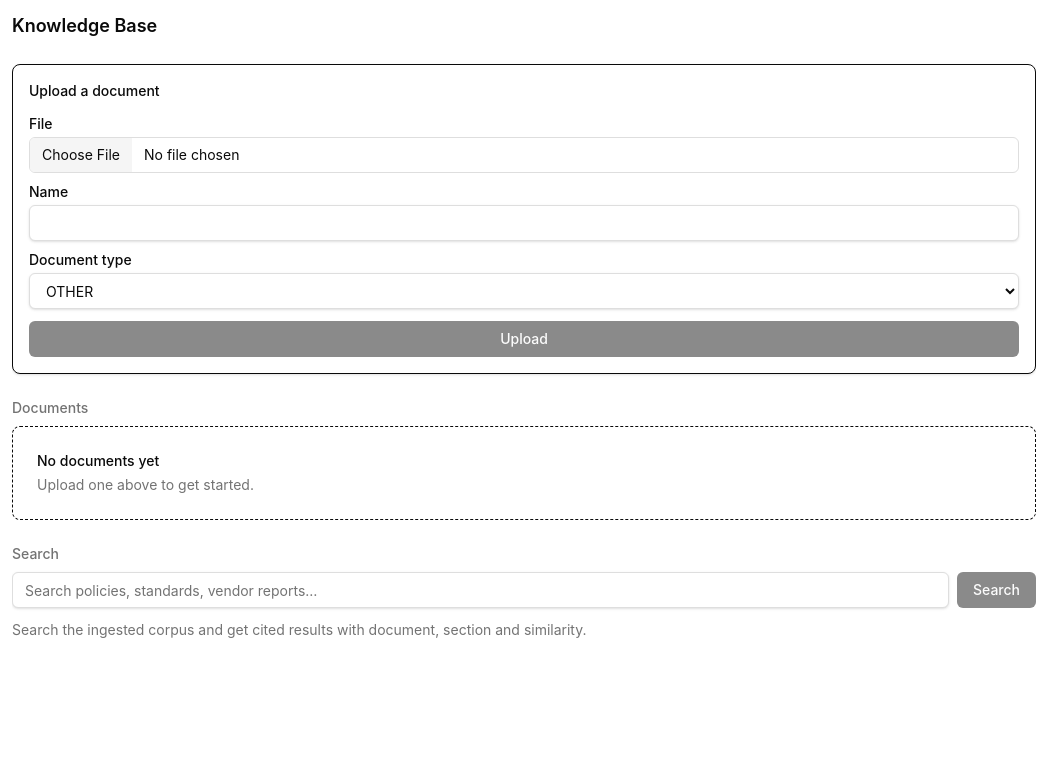
Test: KnowledgeBasePage › renders an error state when the search request fails
This screenshot has width=1048, height=780.
Type "anything" into the search field named "search query" at (480, 590), box [12,572,949,608]
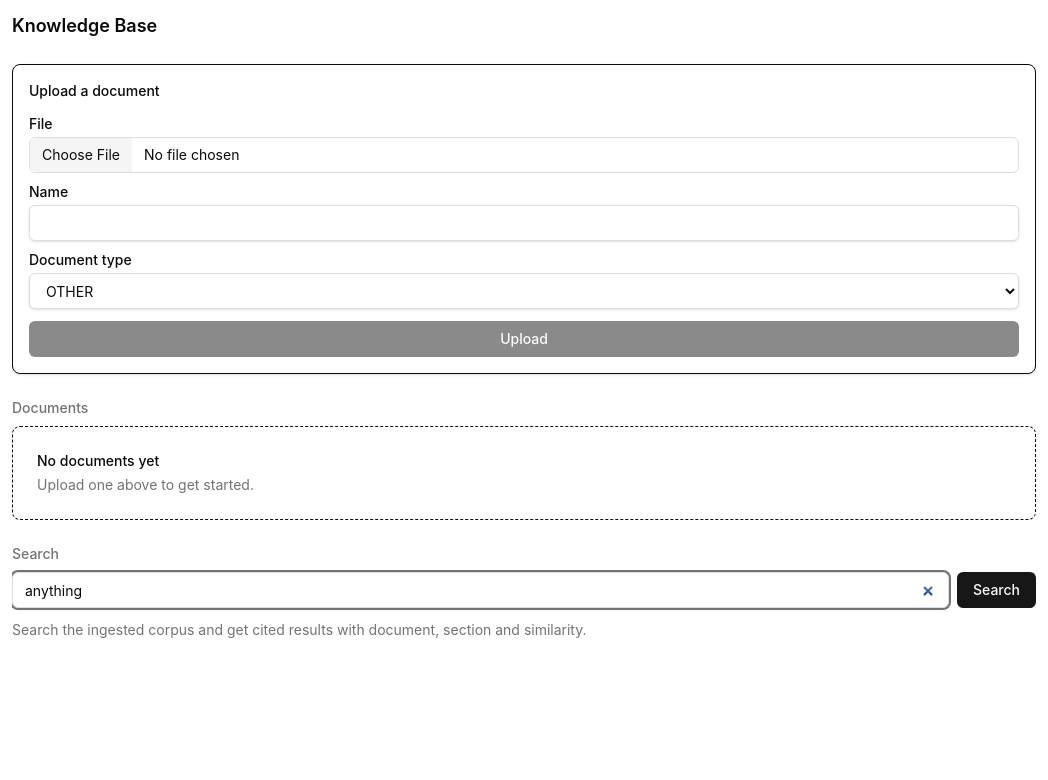
Click the button "Search" at (996, 590), box [957,572,1036,608]
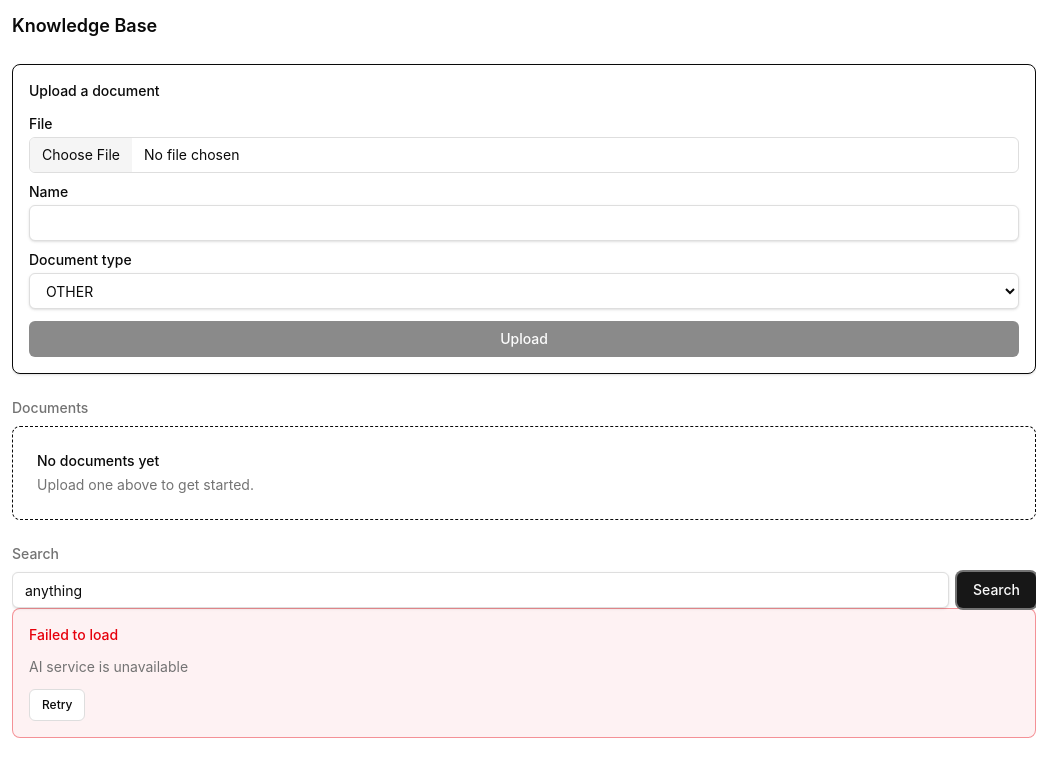
Expected: the message shows "AI service is unavailable", [29,658,188,675]
